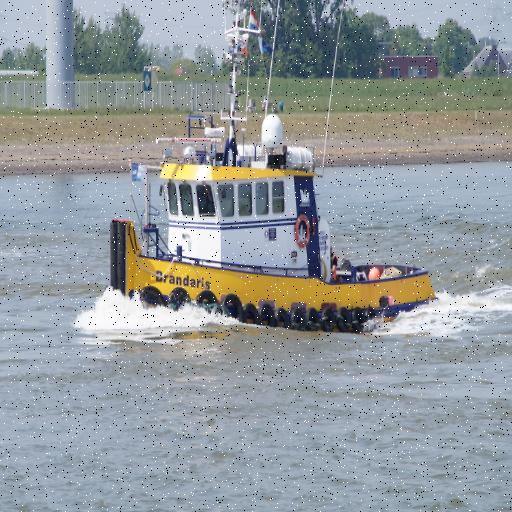tugboat: (109, 24, 444, 341)
